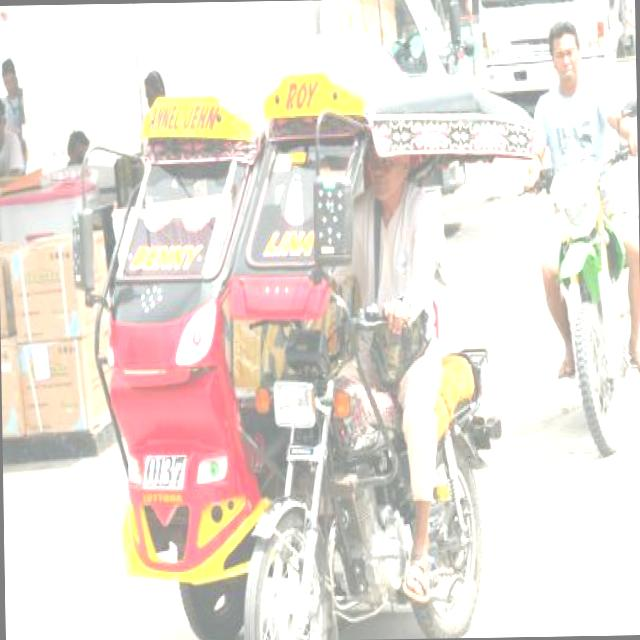Vehicle: (99, 74, 539, 640), (27, 0, 469, 200), (519, 128, 640, 460), (477, 0, 622, 95)
